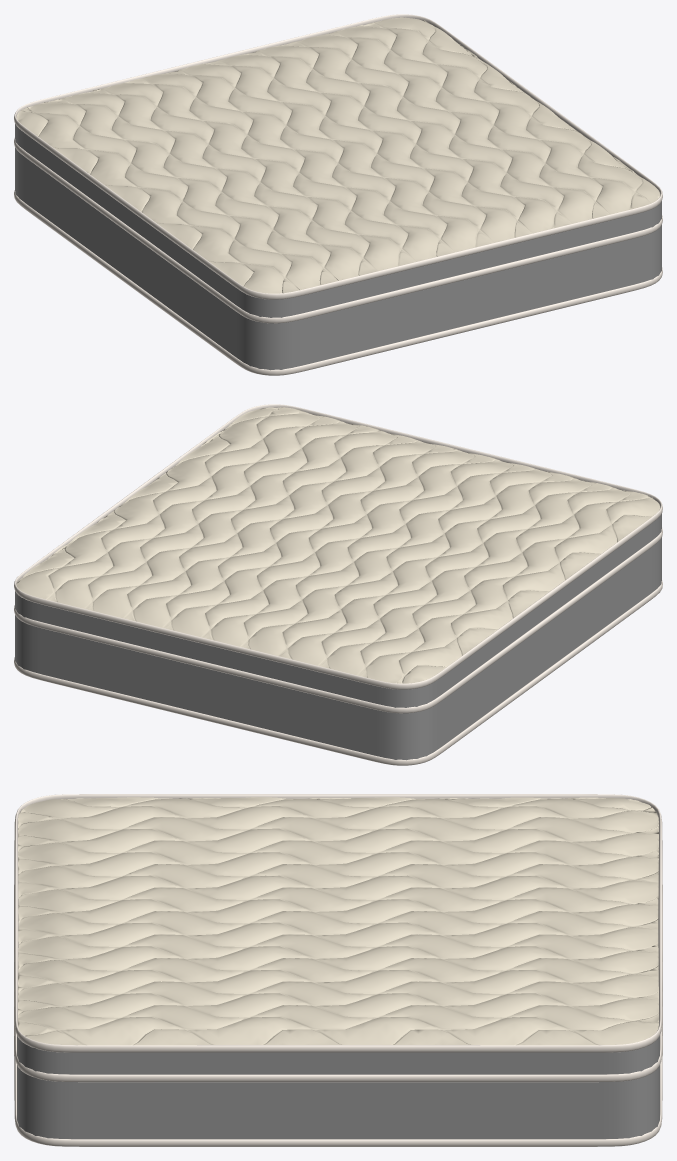
Rendered from bed.glb.
The picture shows the model from 3 angles, top to bottom: view 1: azimuth 30°, elevation 25°; view 2: azimuth 150°, elevation 25°; view 3: azimuth 270°, elevation 25°; orthographic projection. The views are drawn at different scales.
Visible parts, largest first — view 1: sec1, group3_pCylinder2; view 2: sec1, group3_pCylinder2; view 3: sec1, group3_pCylinder2.
Part boxes in pixels (box(x1,y1,x2,y2)): sec1: box(14, 14, 662, 299); group3_pCylinder2: box(14, 124, 662, 375); sec1: box(14, 404, 662, 689); group3_pCylinder2: box(14, 514, 662, 765); sec1: box(14, 794, 662, 1052); group3_pCylinder2: box(14, 962, 662, 1146).
Bounding box in the file's own units: 2.53 × 0.5375 × 2.74.
